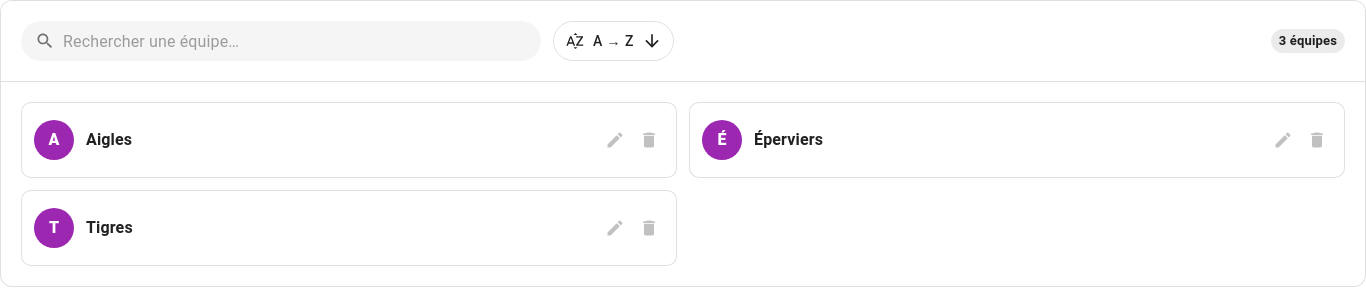
Test: TeamList › should display an empty search state
Type "Lions" into the field labelled "Rechercher une équipe".
click(302, 41); type("Lions")  # box top-left (63, 21), bottom-right (541, 61)
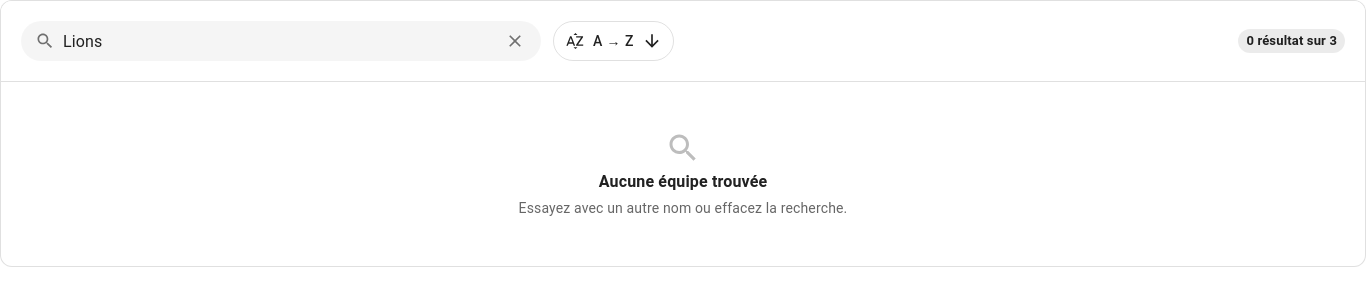
Now the text "Aucune équipe trouvée" is shown, box top-left (599, 170), bottom-right (767, 194)
Now the text "0 résultat sur 3" is shown, box top-left (1246, 33), bottom-right (1337, 48)
